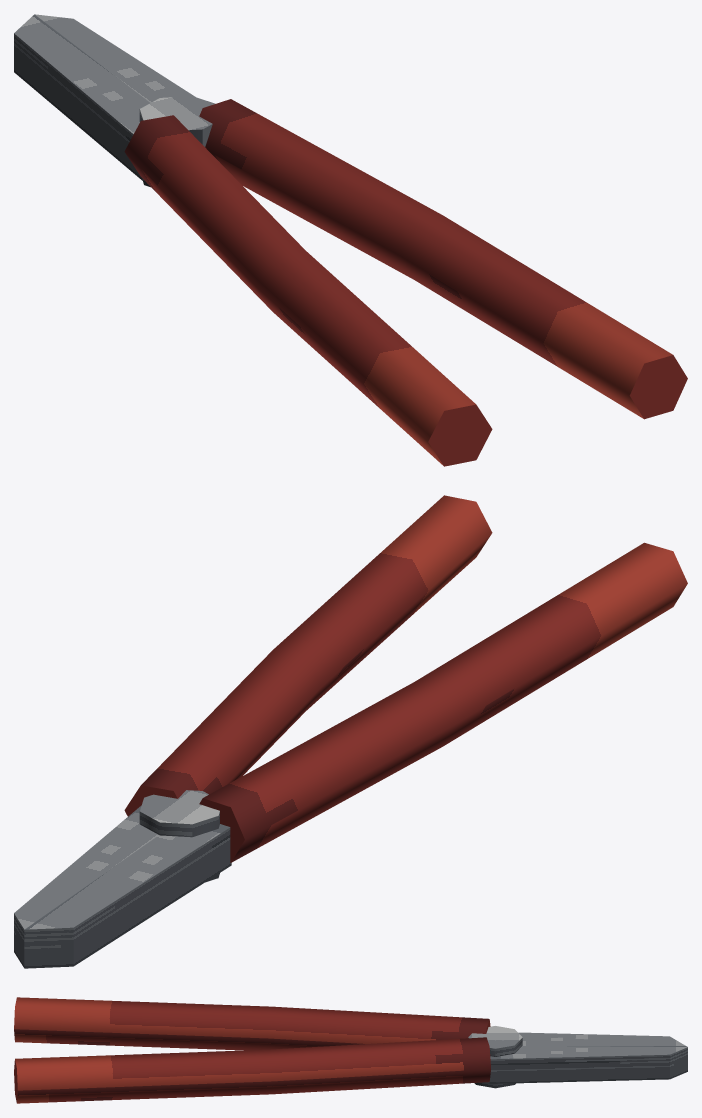
Rendered from INV_Pliers.glb.
3 views of the same model, one above another, from view 1: azimuth 30°, elevation 25°; view 2: azimuth 150°, elevation 25°; view 3: azimuth 270°, elevation 25° (orthographic). The views are drawn at different scales.
Visible parts, largest first — view 1: INV_Pliers_Mesh; view 2: INV_Pliers_Mesh; view 3: INV_Pliers_Mesh.
Part boxes in pixels (x1,y1,x2,y2): INV_Pliers_Mesh: [14, 14, 687, 466]; INV_Pliers_Mesh: [14, 495, 687, 968]; INV_Pliers_Mesh: [14, 997, 687, 1103].
Size of what is drawn, in the model's own units: 0.0524 by 0.0134 by 0.1855.
Materials: 1 (1 with a texture image).
